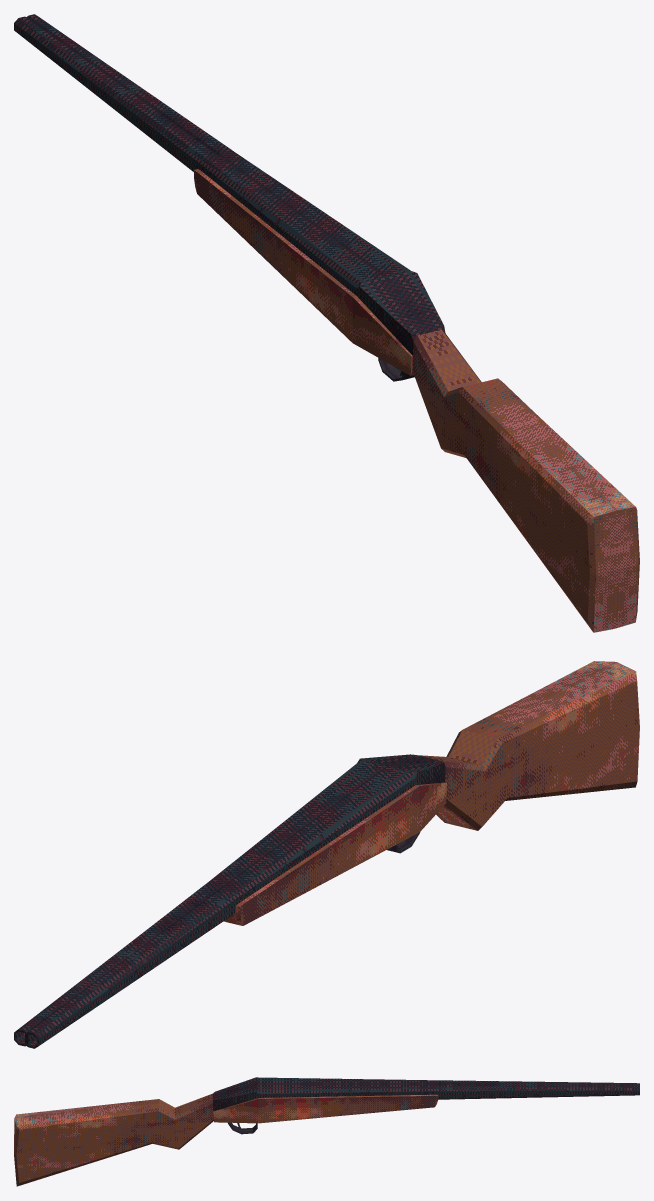
The model's file is escopeta.glb.
3 views of the same model, one above another, from view 1: azimuth 30°, elevation 25°; view 2: azimuth 150°, elevation 25°; view 3: azimuth 270°, elevation 25° (orthographic). The views are drawn at different scales.
Parts seen in each view (by area): view 1: Cube; view 2: Cube; view 3: Cube.
Part boxes in pixels (x1,y1,x2,y2): Cube: [14, 14, 639, 632]; Cube: [14, 661, 639, 1048]; Cube: [14, 1077, 639, 1186].
Bounding box in the file's own units: 0.0726 × 0.1902 × 1.1.
1 material, 1 textured.
